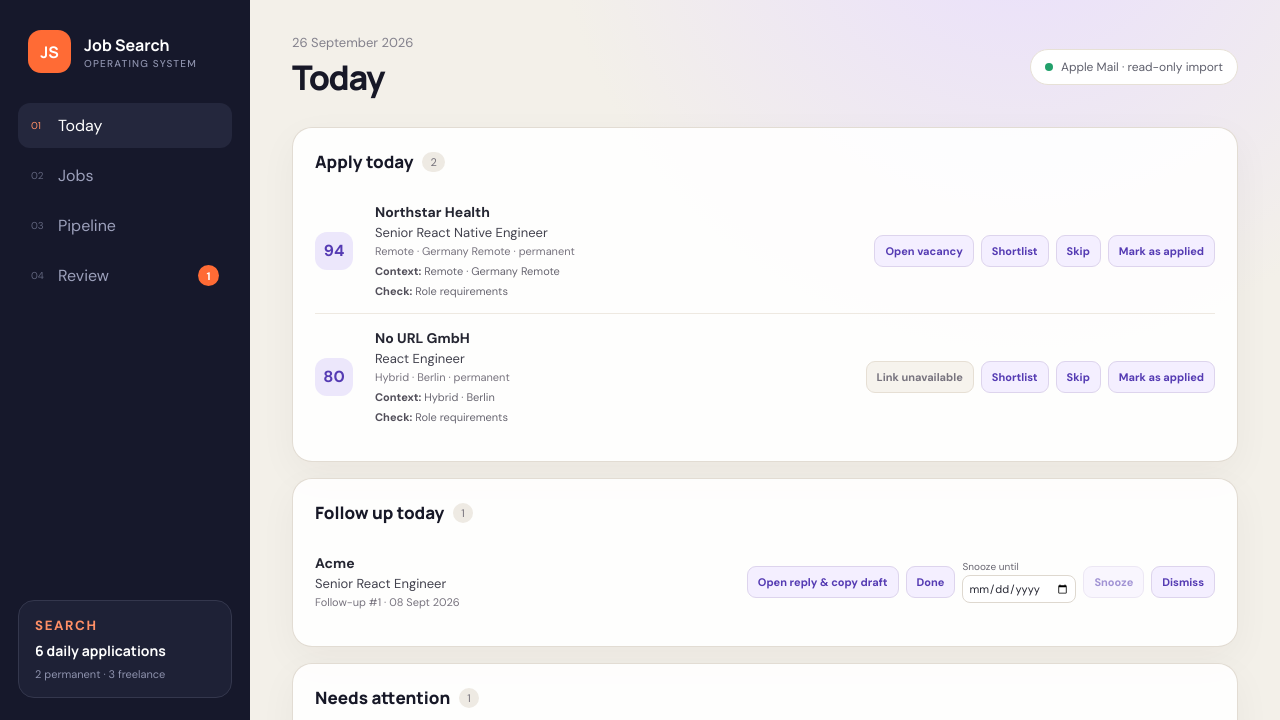
Test: App › keeps vacancy names out of visible job action labels
This screenshot has width=1280, height=720.
expect the heading "Today" is shown: met, box [292,54,384,100]
What coordinates should you click on to do the following:
click the button "02 Jobs"
I would click on:
 (125, 176)
Its box is [18,153,232,198].
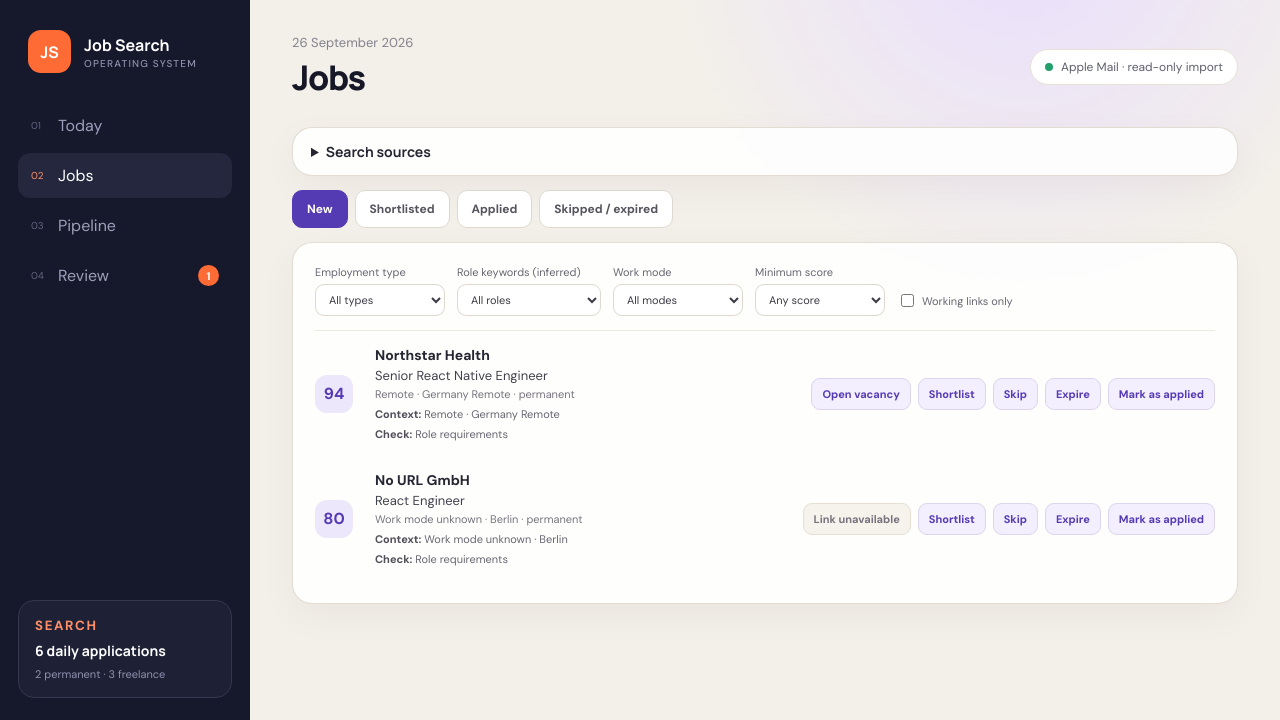
expect the button with aria-label "Shortlist Northstar Health Senior React Native Engineer" reads "Shortlist": met, box [918,378,986,410]
expect the button with aria-label "Expire Northstar Health Senior React Native Engineer" reads "Expire": met, box [1045,378,1101,410]
